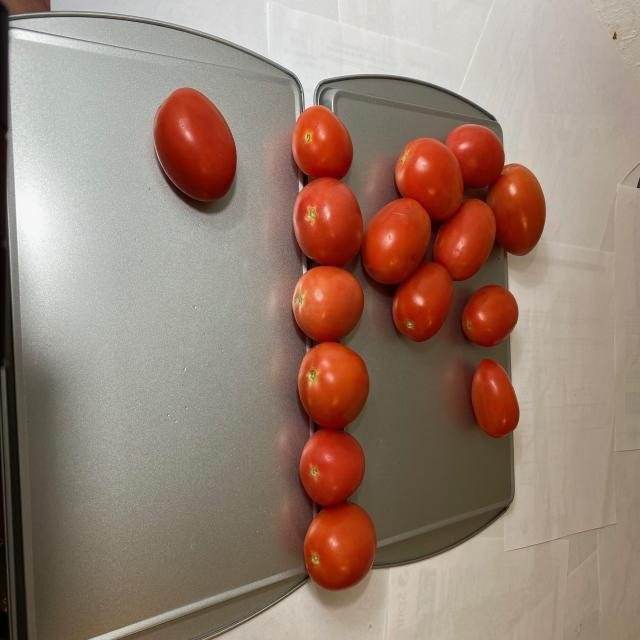tomato: (294, 88, 546, 592), (154, 83, 238, 202)
